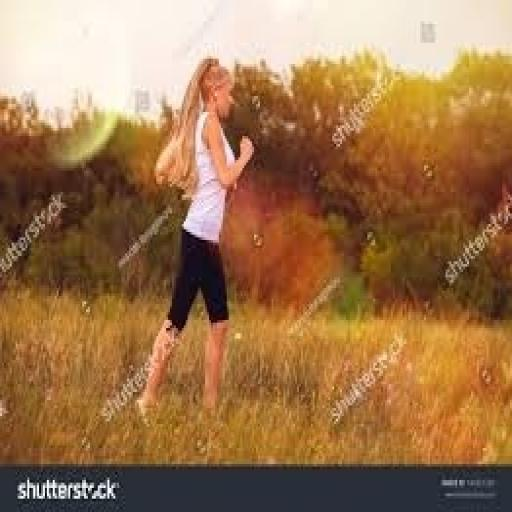running: (133, 54, 258, 422)
